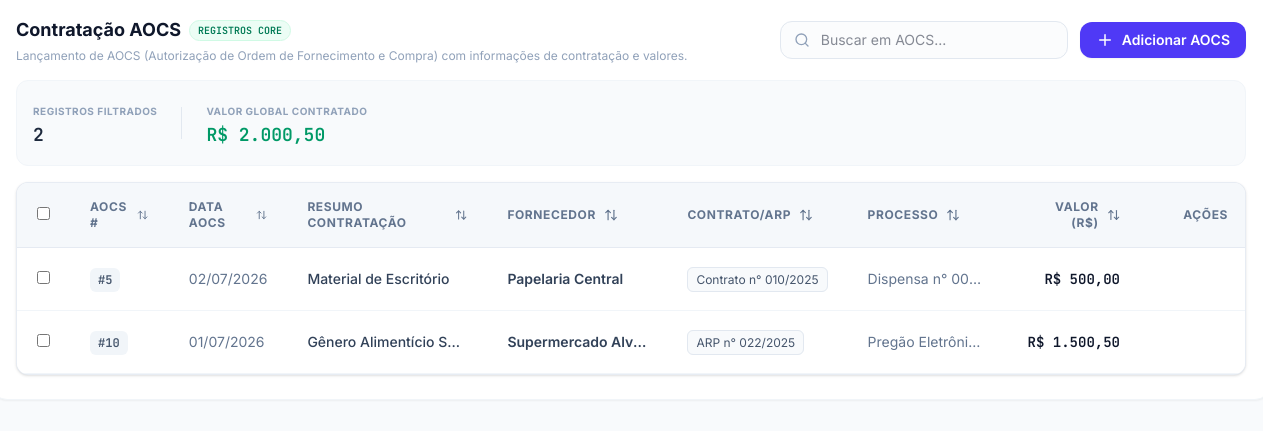
Test: AocsTable Component › deve desselecionar um item específico
The image size is (1263, 431).
// Seleciona o primeiro item da linha
Click the checkbox in the row of "02/07/2026": (44, 278) 37,271 -> 50,284
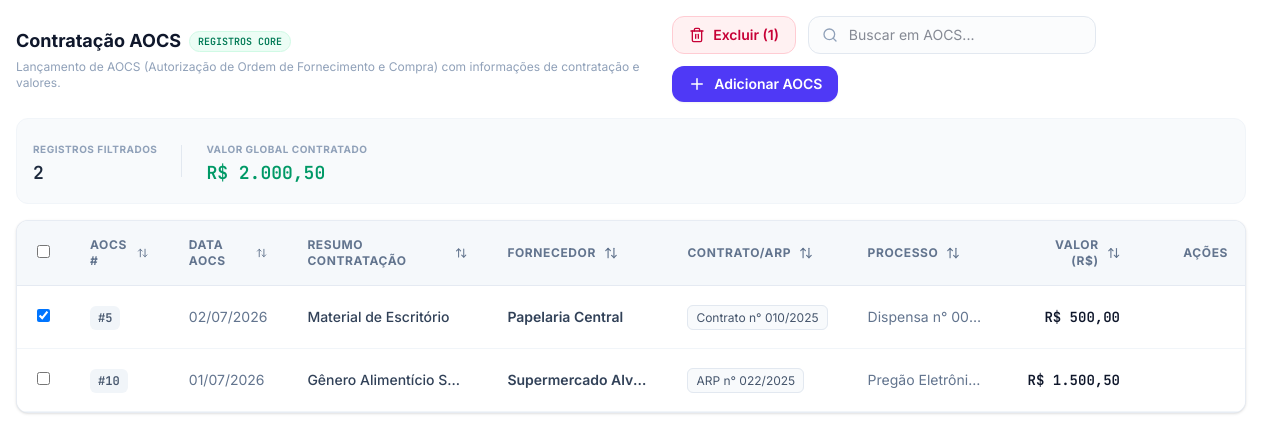
Expected: the button "Excluir (1)" is shown, 672,16 -> 796,54
// Desseleciona o mesmo item
Click the checkbox in the row of "02/07/2026": (44, 316) 37,309 -> 50,322
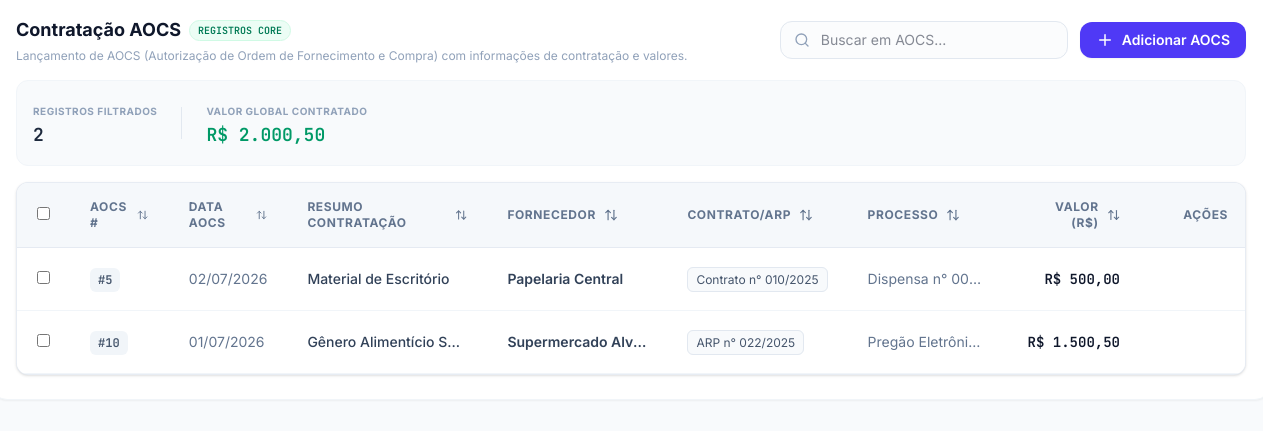
Expected: the button "Excluir (1)" is gone
